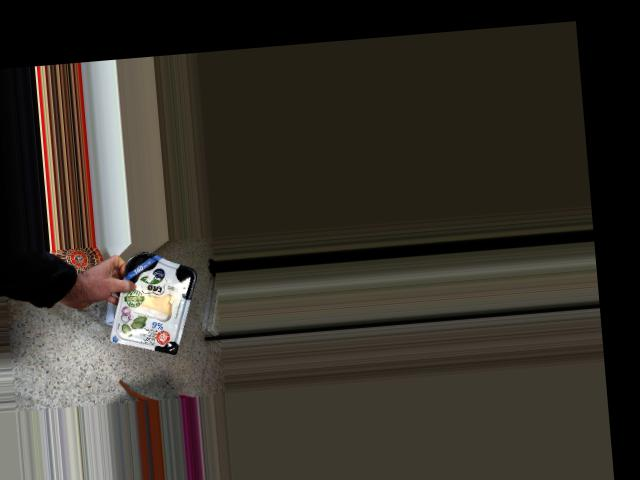cheese: (118, 255, 193, 351)
